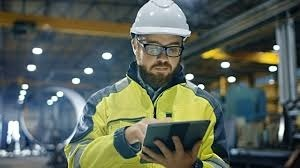helmet: (129, 1, 186, 39)
person with partial safety: (87, 1, 218, 168)
